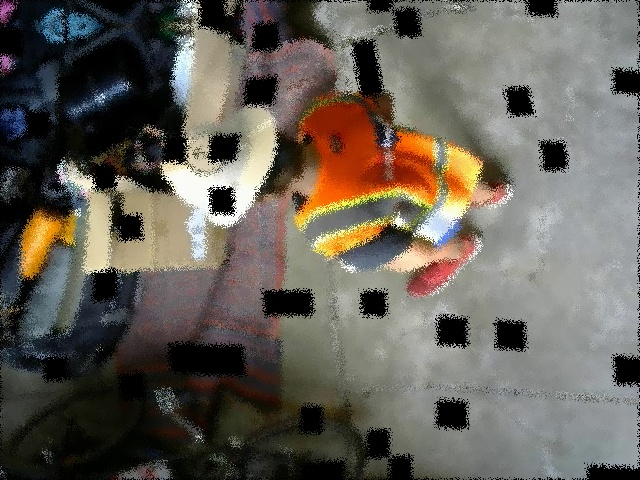one: (184, 130, 233, 175)
